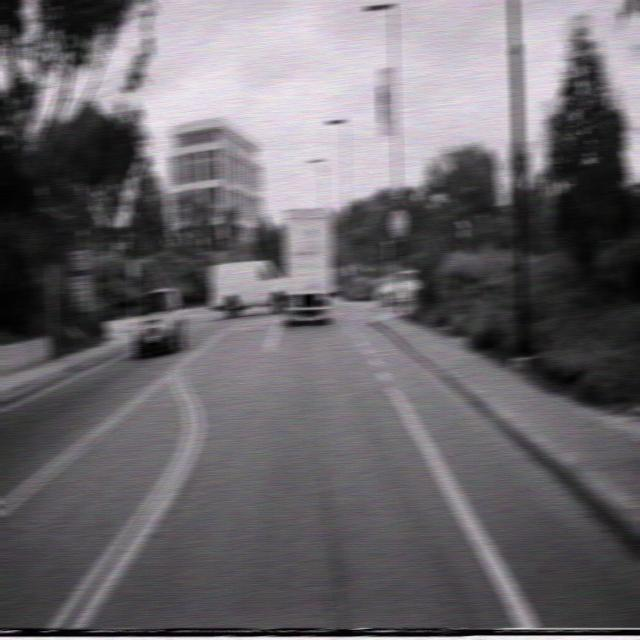stop: (388, 208, 408, 238)
